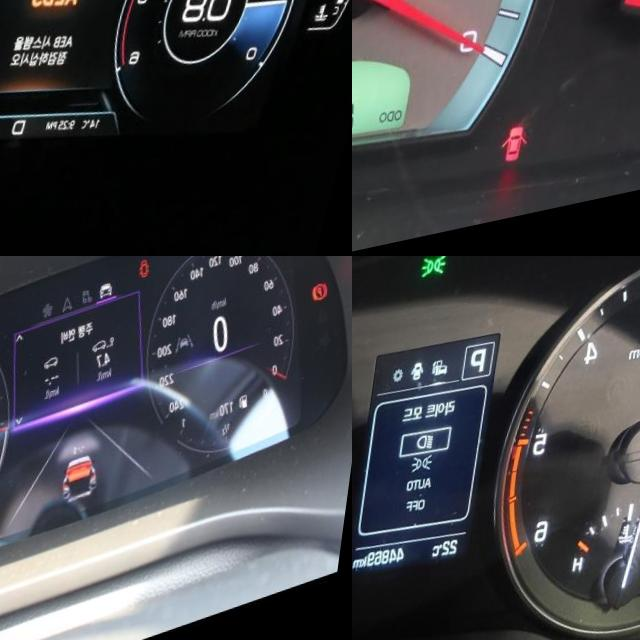Doors: (517, 142, 546, 182), (144, 272, 159, 296)
SideLamp: (426, 261, 453, 289)
